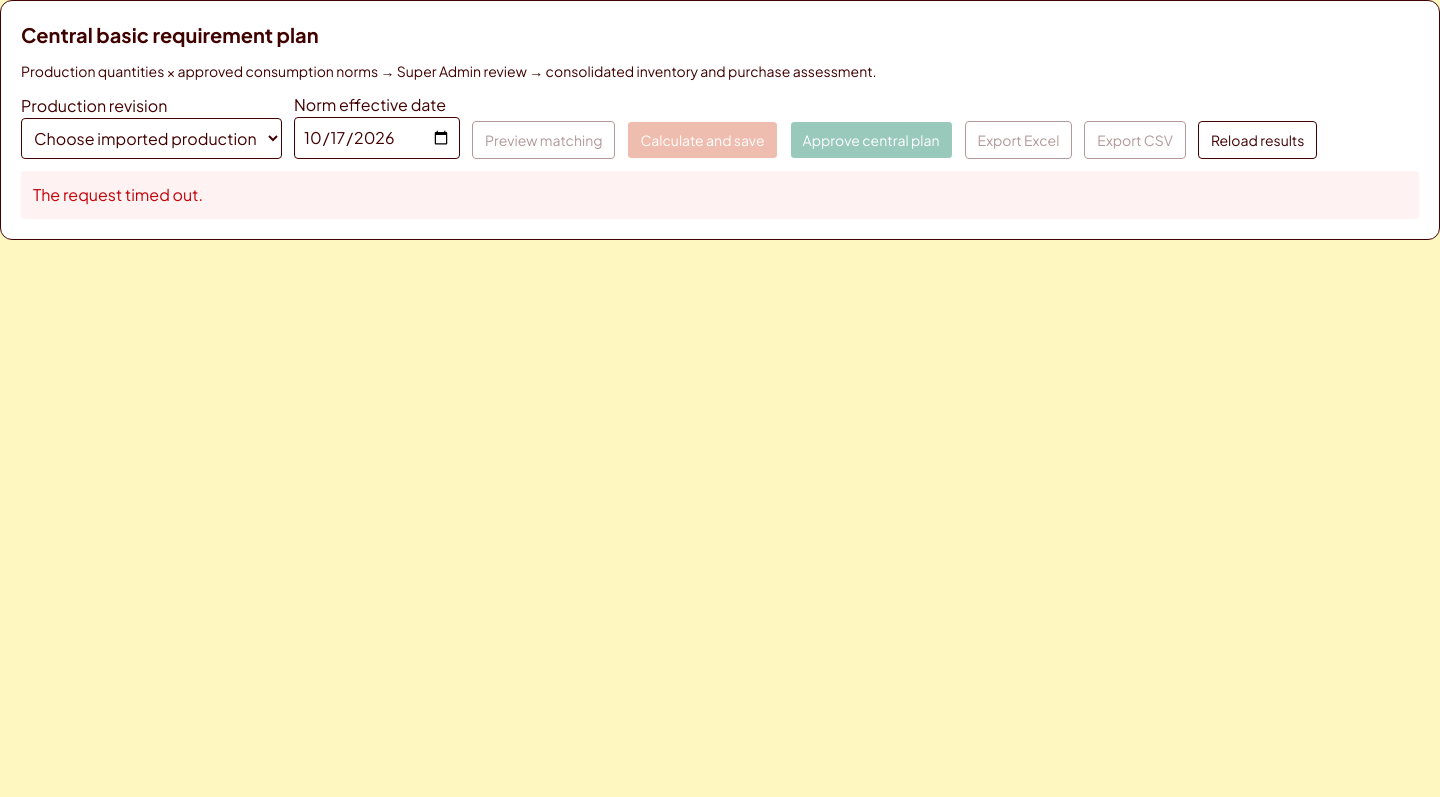
Test: opening a purchase period loads that exact central revision and retains it when retrying
The width and height of the screenshot is (1440, 797).
Expected: the message "The request timed out." is shown, [21, 171, 1419, 219]
Click the button "Reload results".
click(1258, 140)  # box [1198, 121, 1317, 159]
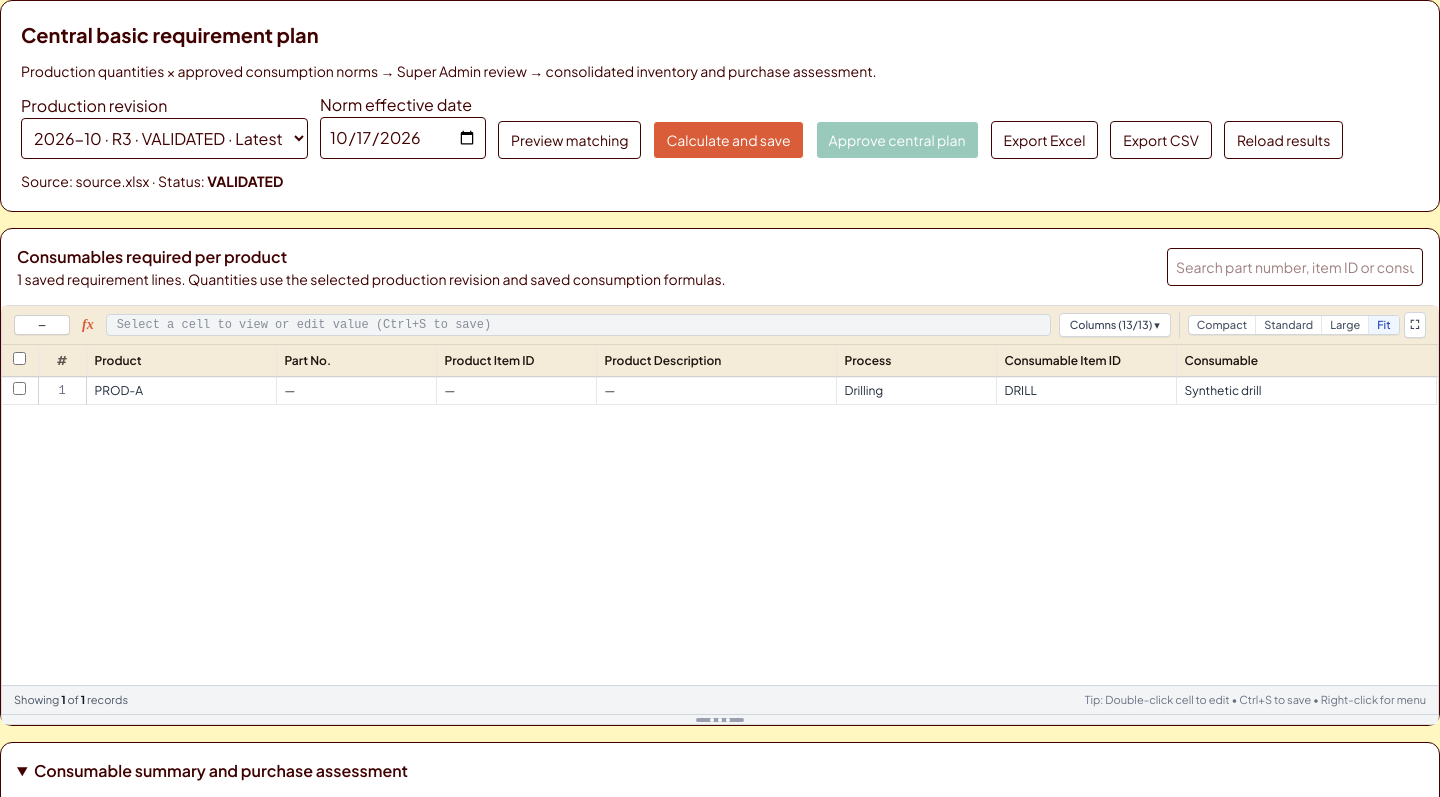
Expected: the cell "PROD-A" is shown, [86, 376, 276, 404]
